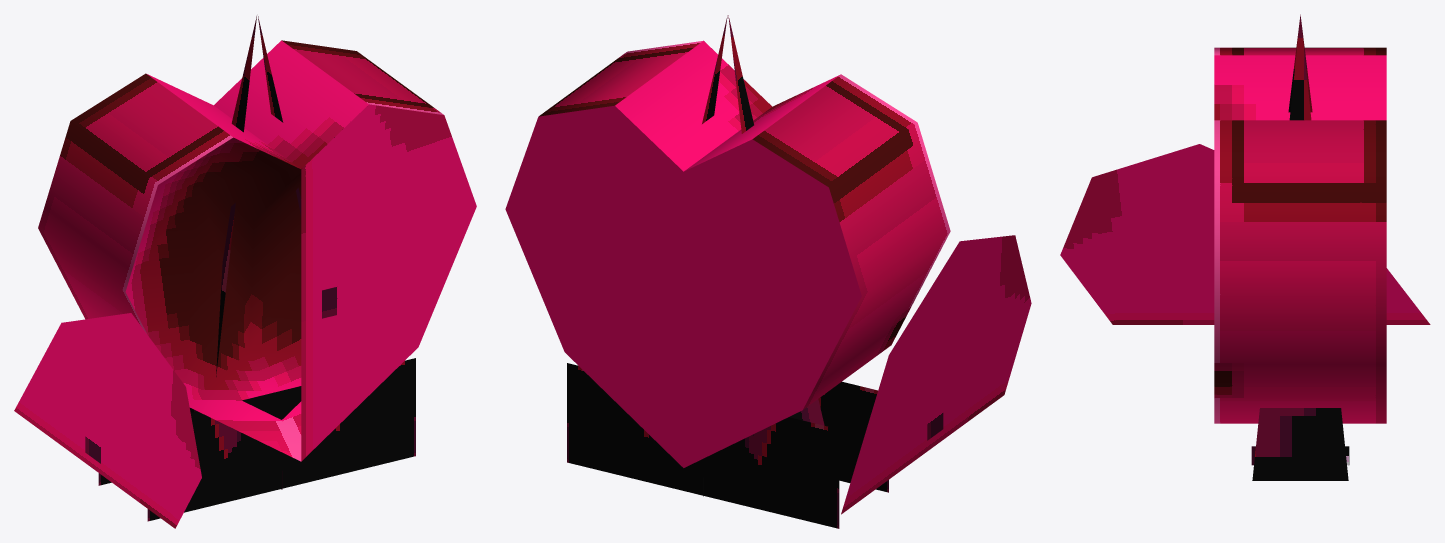
3 renders of one model, left to right at view 1: azimuth 30°, elevation 25°; view 2: azimuth 150°, elevation 25°; view 3: azimuth 270°, elevation 25°, orthographic. The views are drawn at different scales.
Parts seen in each view (by area): view 1: 3822kg3_ser03; view 2: 3822kg3_ser03; view 3: 3822kg3_ser03.
Part boxes in pixels (x1,y1,x2,y2): 3822kg3_ser03: (14, 16, 476, 528); 3822kg3_ser03: (505, 15, 1031, 528); 3822kg3_ser03: (1060, 14, 1430, 480).
Bounding box in the file's own units: 1.9 × 2.31 × 1.72.
3 materials, 3 textured.
